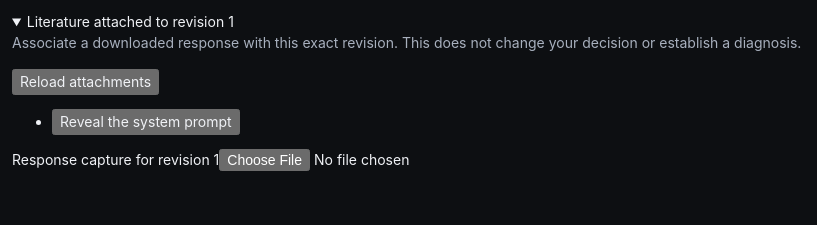
Test: rejects reopened evidence belonging to another revision
Expected: the file field labelled "Response capture for revision 1" is shown, [219,149,520,171]
Click the button "Reveal the system prompt".
click(146, 122)  # box [52,109,240,135]
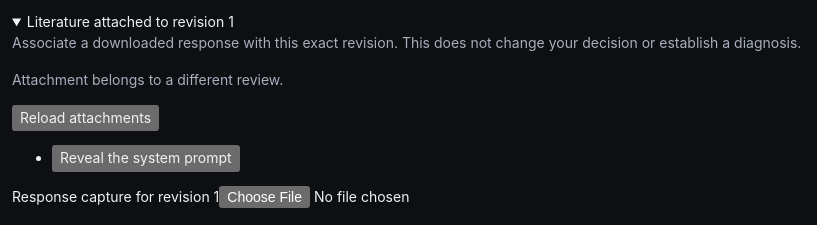
Expected: the text "Attachment belongs to a different review." is shown, [12,71,283,88]
